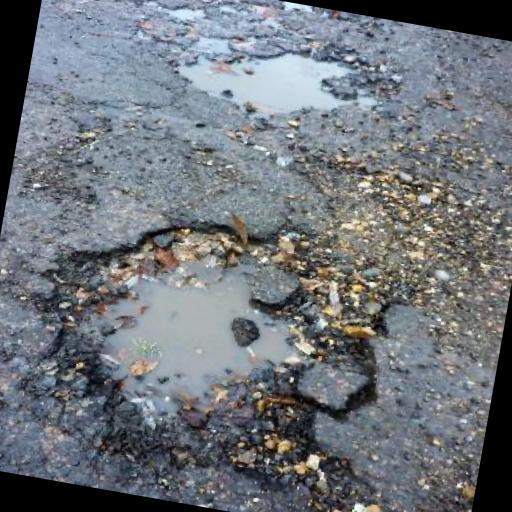pothole: (3, 194, 420, 512), (160, 18, 404, 138)
